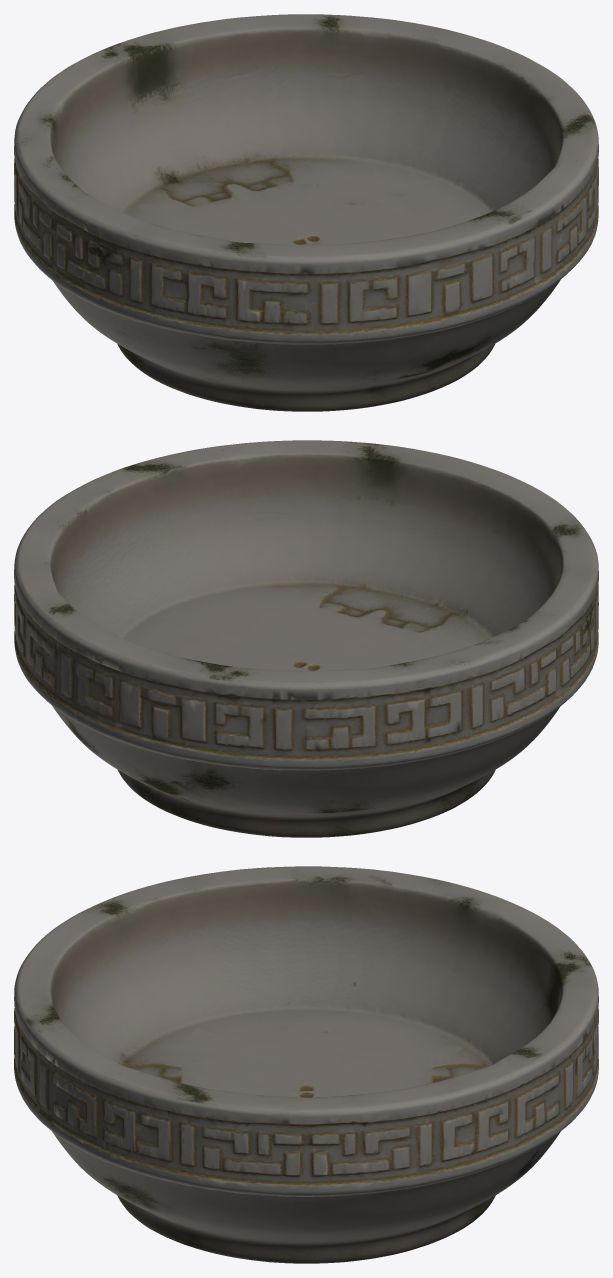
The model's file is weathered-ritual-offering-bowl-optimized.glb.
The picture shows the model from 3 angles, top to bottom: view 1: azimuth 30°, elevation 25°; view 2: azimuth 150°, elevation 25°; view 3: azimuth 270°, elevation 25°; orthographic projection.
Visible parts, largest first — view 1: tripo_node_ed54ba61-fe32-4652-96de-3ac7ecbbacb5; view 2: tripo_node_ed54ba61-fe32-4652-96de-3ac7ecbbacb5; view 3: tripo_node_ed54ba61-fe32-4652-96de-3ac7ecbbacb5.
Part boxes in pixels (box(x1,y1,x2,y2)): tripo_node_ed54ba61-fe32-4652-96de-3ac7ecbbacb5: box(14, 14, 598, 411); tripo_node_ed54ba61-fe32-4652-96de-3ac7ecbbacb5: box(14, 440, 598, 837); tripo_node_ed54ba61-fe32-4652-96de-3ac7ecbbacb5: box(14, 866, 598, 1263).
Bounding box in the file's own units: 0.9997 × 0.3722 × 1.
1 material, 1 textured.
